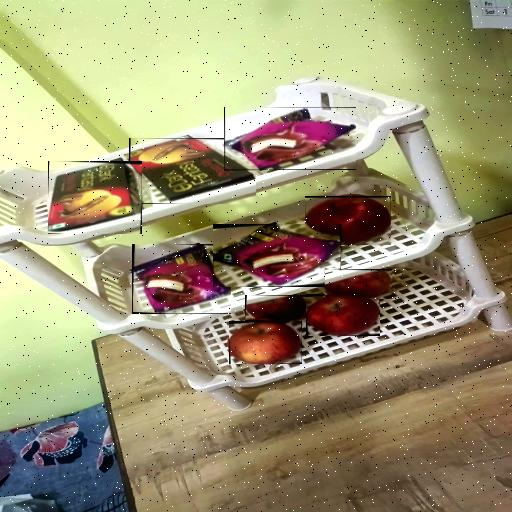Apple: (305, 196, 391, 245), (229, 321, 302, 364), (306, 294, 380, 336), (326, 269, 394, 299), (245, 296, 306, 324)
Choco Fills: (129, 138, 256, 204), (48, 161, 142, 234)
Choco Pie: (224, 107, 356, 170), (213, 224, 341, 287), (132, 244, 231, 314)
